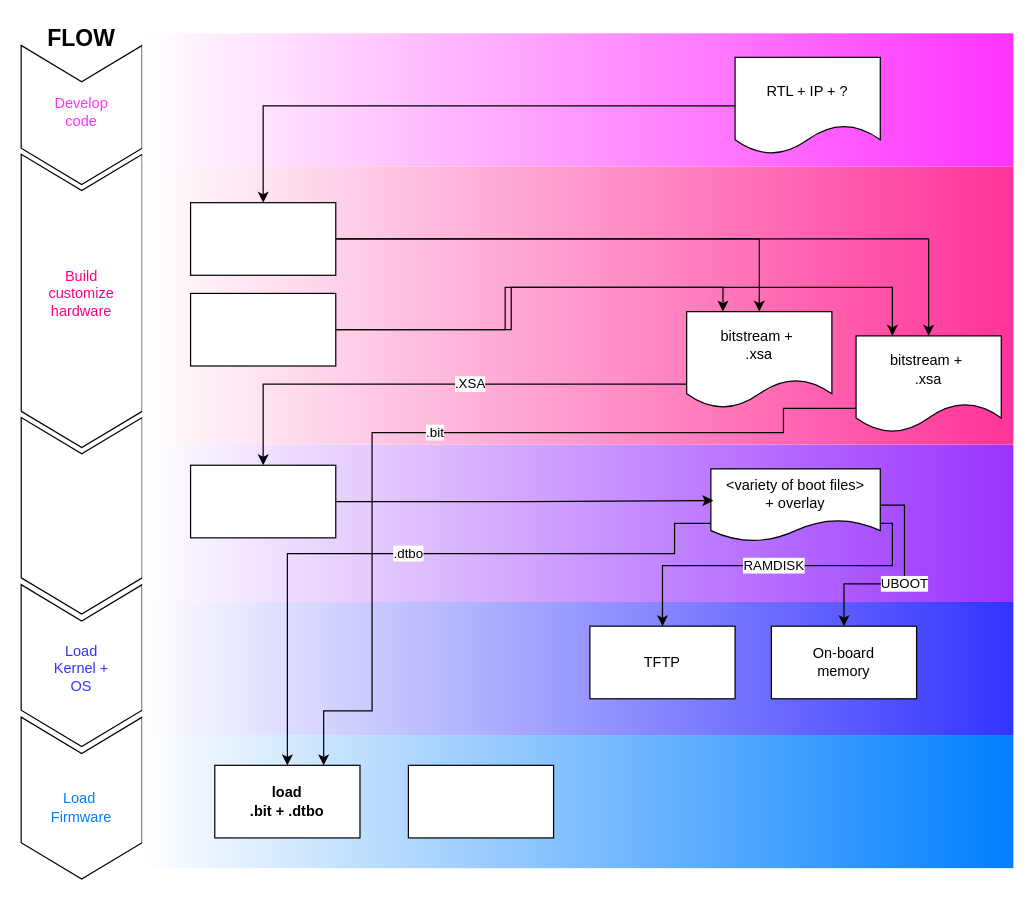
This 1035x900 diagram has some shape labels left out. Each missing label, with the box of its shape:
Compile kernel, boot files, rootfs: (20, 416, 142, 614)
Custom TCL script: (189, 201, 336, 275)
JTAG interface (XSDB): (407, 764, 554, 838)
Petalinux toolset: (189, 464, 336, 538)
Ruckus build: (189, 292, 336, 366)
